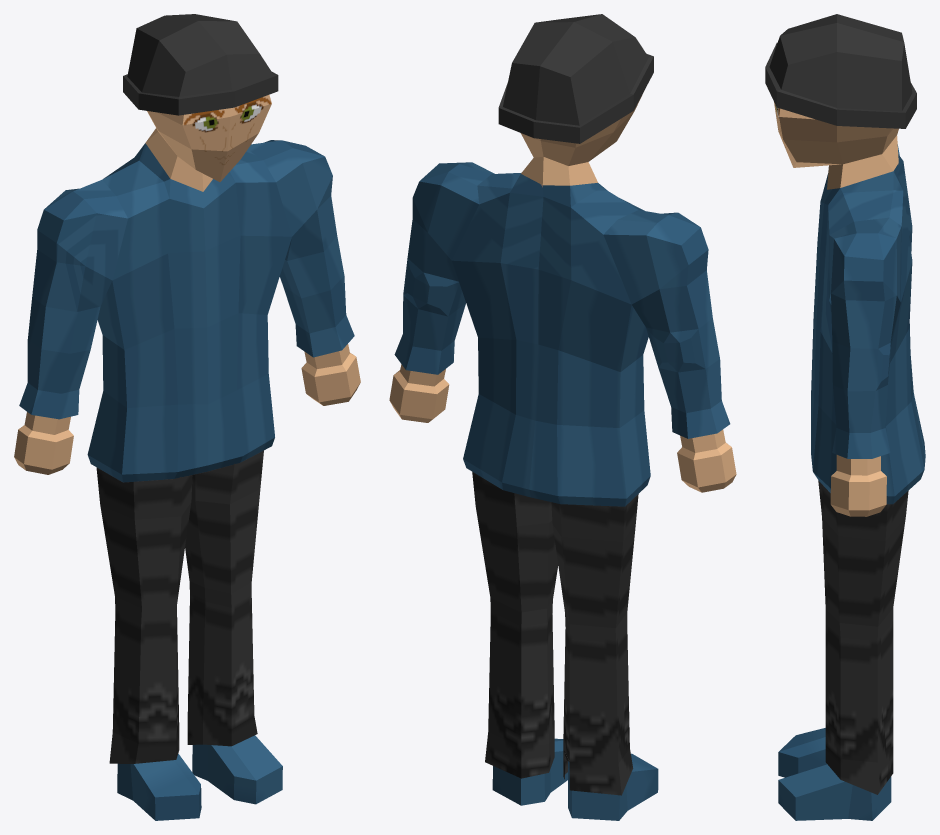
The model's file is Villager2.fbx.
3 renders of one model, left to right at view 1: azimuth 30°, elevation 25°; view 2: azimuth 150°, elevation 25°; view 3: azimuth 270°, elevation 25°, orthographic.
Parts seen in each view (by area): view 1: Humane; view 2: Humane; view 3: Humane.
Boxes of the visible parts, x1=… form: Humane: x1=14, y1=14, x2=360, y2=820; Humane: x1=389, y1=14, x2=736, y2=820; Humane: x1=765, y1=14, x2=925, y2=820.
Size of the model in its own units: 74.7 by 163 by 30.88.
Materials: 1 (1 with a texture image).
